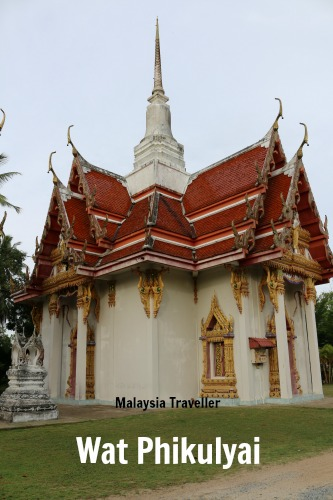Buddhist Temple: (47, 24, 312, 410)
